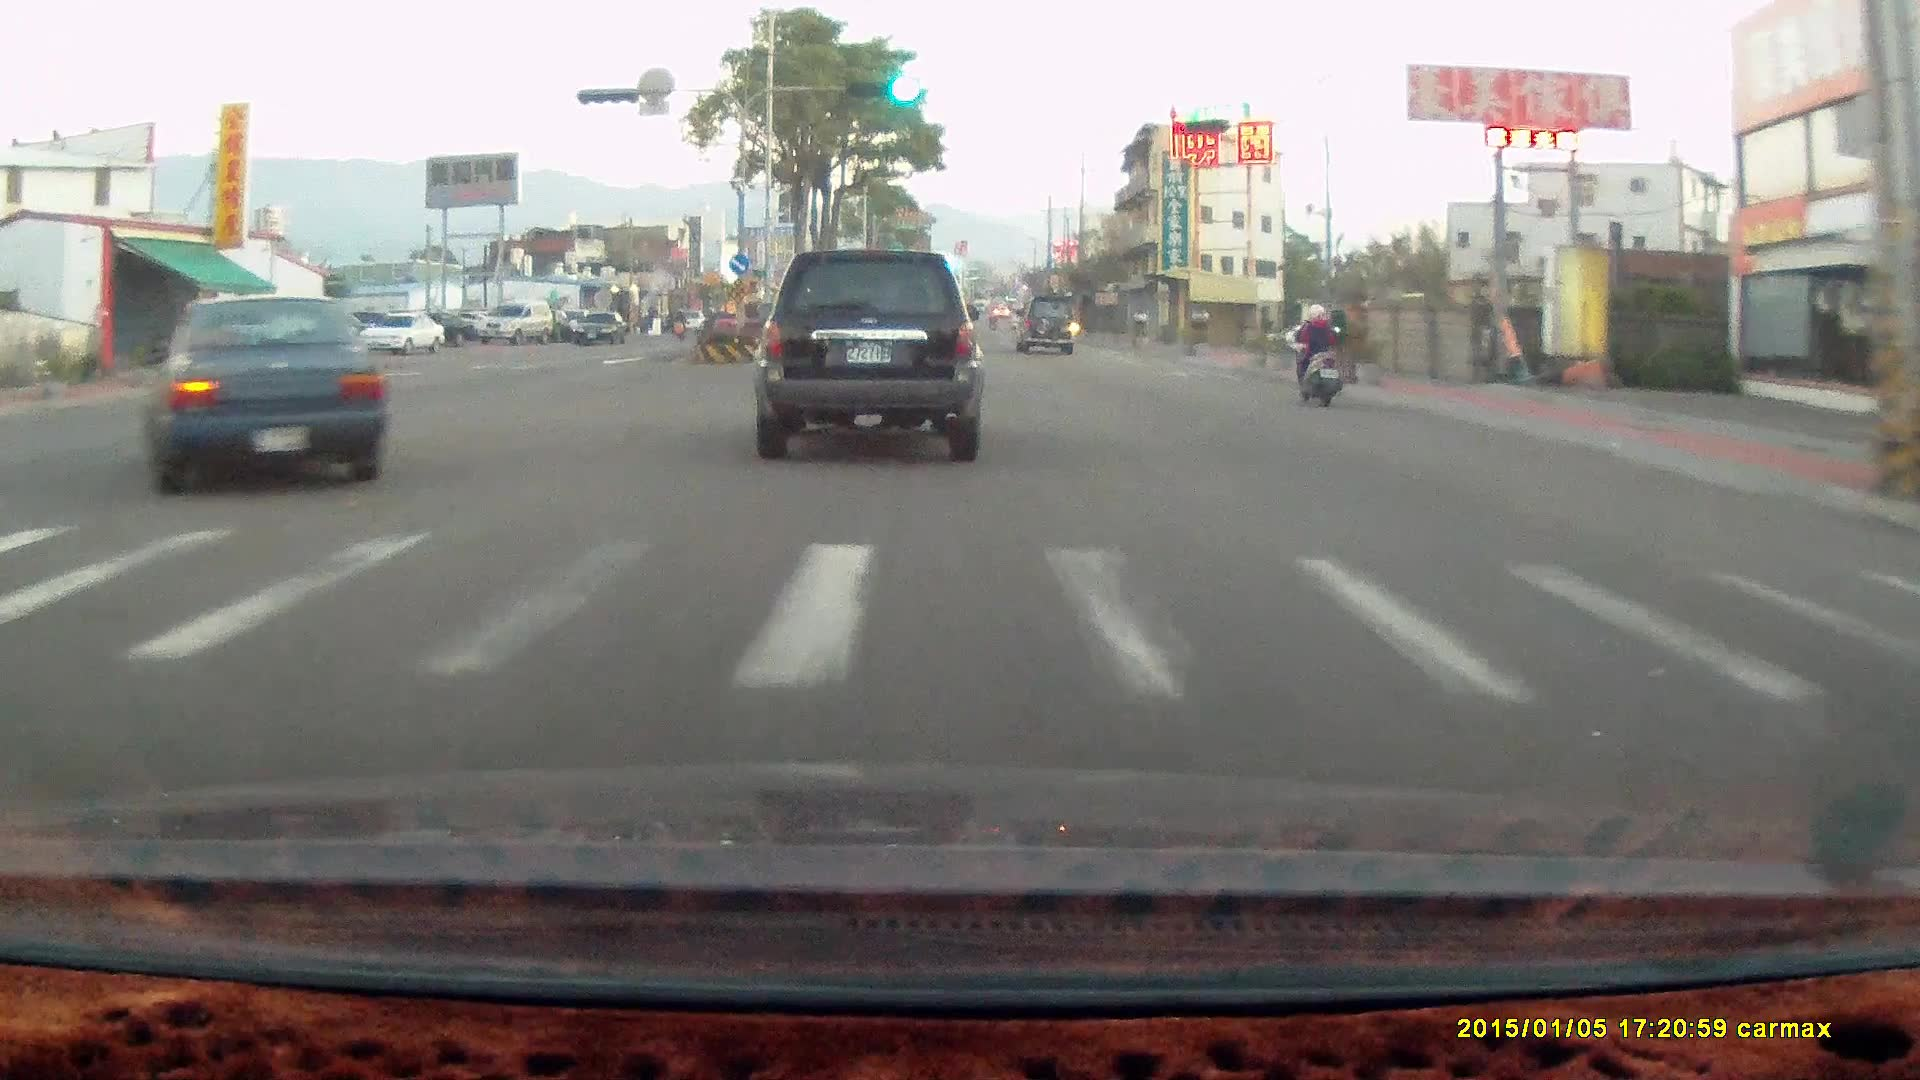rider: (1280, 293, 1355, 416), (1290, 299, 1345, 409)
vehicle: (123, 293, 381, 503), (140, 295, 386, 498), (761, 249, 992, 463), (752, 248, 982, 461), (1020, 295, 1081, 361), (359, 310, 446, 355), (359, 313, 446, 358), (473, 303, 555, 351), (474, 298, 554, 344), (1014, 295, 1077, 354), (573, 313, 629, 348), (572, 310, 627, 344)
